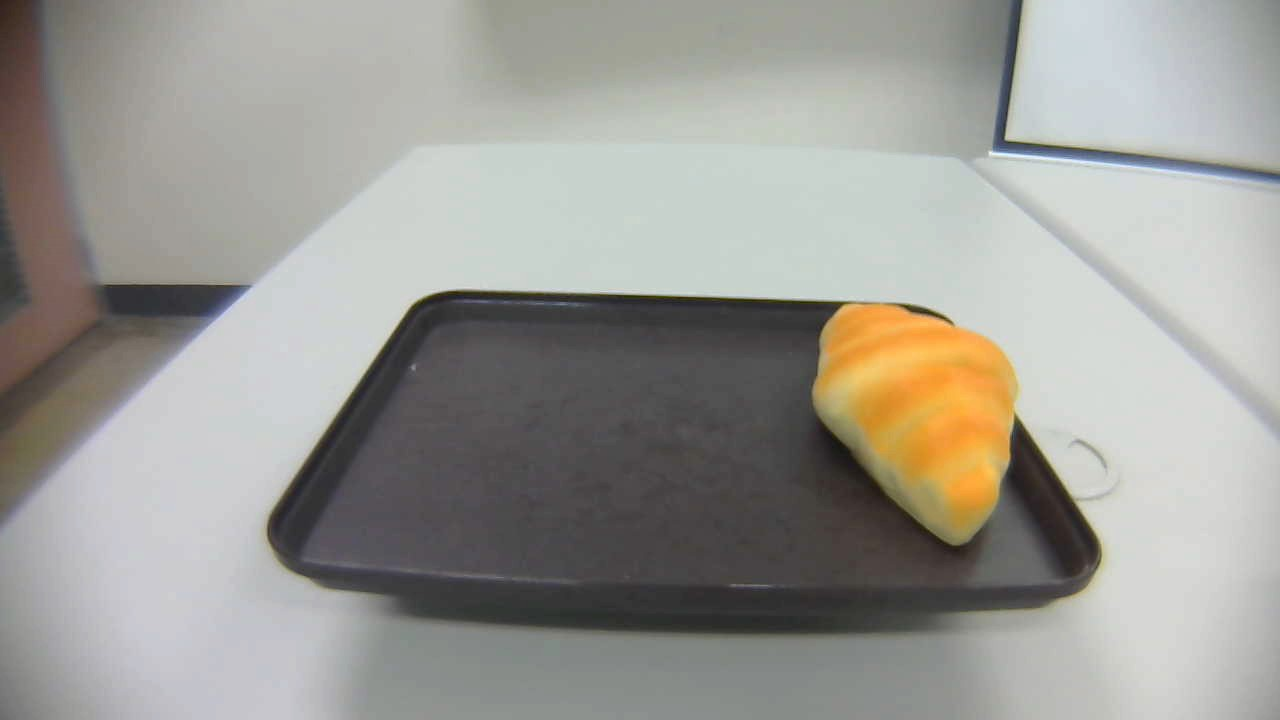croissant: (812, 301, 1018, 548)
